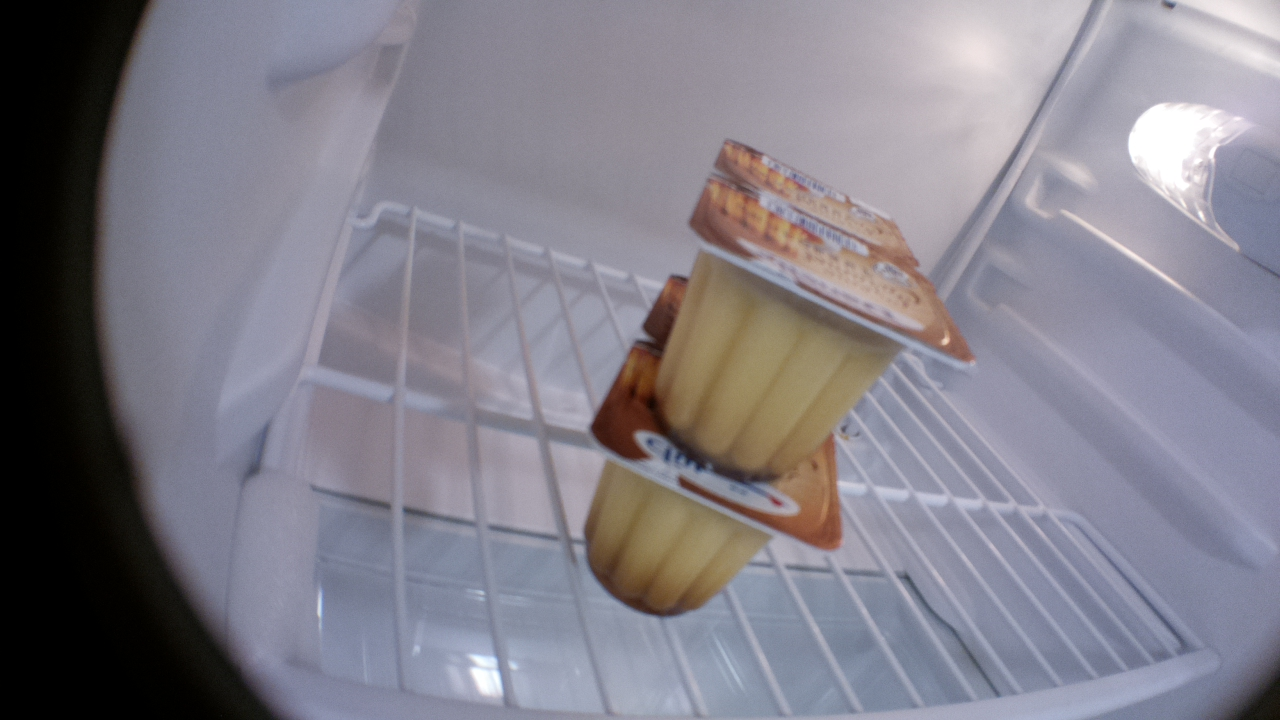caramel: (654, 171, 978, 480), (579, 328, 842, 619), (713, 135, 919, 266)
